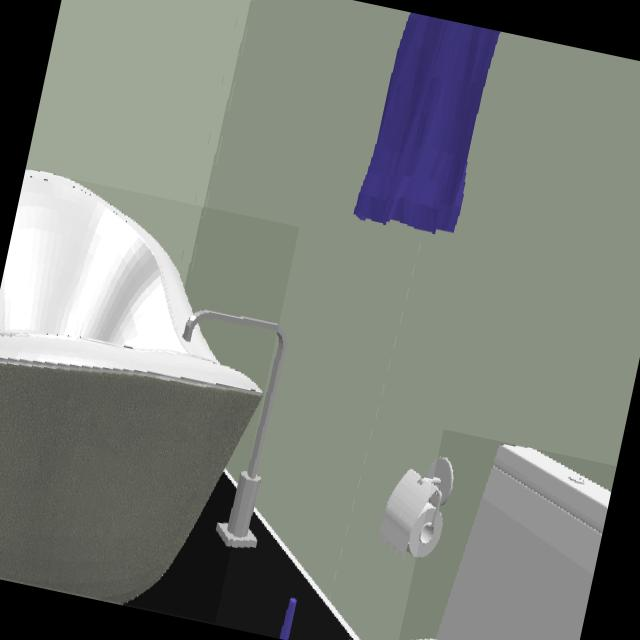bathtube: (0, 170, 264, 606)
toilet: (422, 447, 611, 640)
